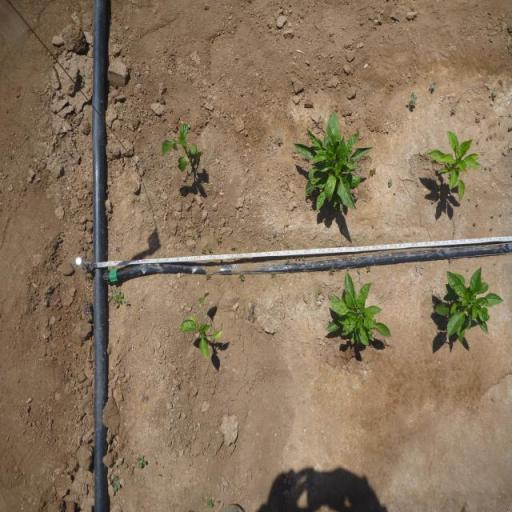plant: (289, 108, 373, 221), (322, 270, 394, 351), (432, 266, 504, 342), (422, 131, 482, 203), (176, 290, 226, 362), (158, 122, 204, 174)
weed: (110, 286, 124, 308), (109, 473, 122, 493), (404, 91, 418, 109), (136, 454, 148, 468), (368, 166, 378, 178), (489, 88, 498, 98), (268, 272, 278, 280), (294, 255, 306, 261), (328, 266, 336, 275), (387, 177, 394, 187), (430, 80, 436, 91), (238, 272, 244, 282), (276, 136, 283, 144), (284, 256, 290, 265), (207, 246, 212, 256), (216, 235, 222, 243), (449, 106, 457, 112), (200, 248, 206, 255), (366, 264, 371, 272), (196, 228, 200, 236), (190, 236, 196, 241), (205, 274, 210, 280), (317, 289, 323, 294), (124, 300, 130, 304), (231, 244, 234, 250)
